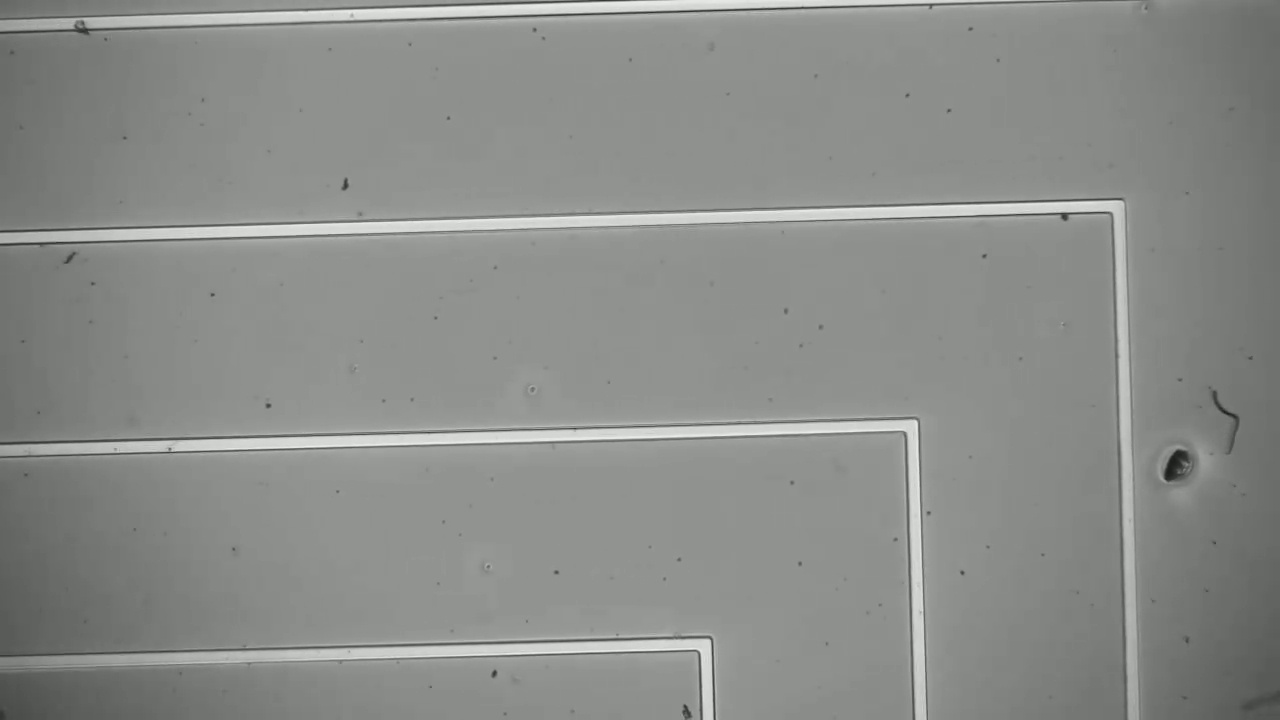stains_enbedded: (65, 9, 93, 44)
